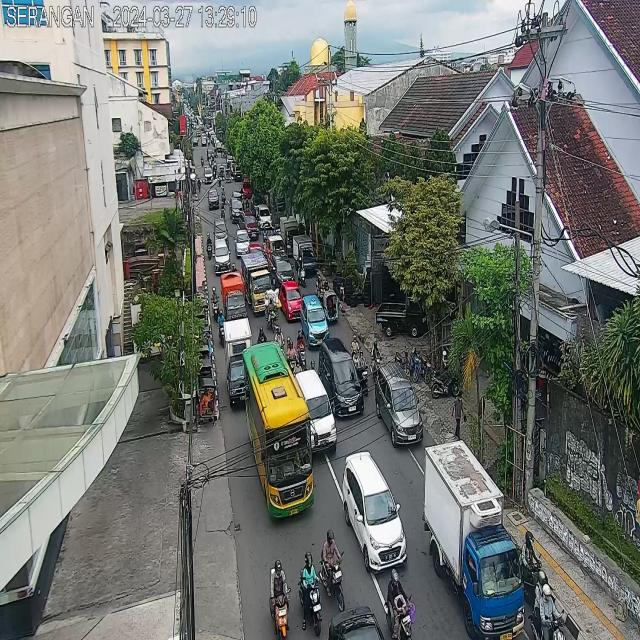bus: (243, 340, 313, 520)
car: (342, 450, 407, 572), (376, 362, 422, 446), (293, 370, 337, 455), (318, 338, 364, 415), (300, 294, 330, 348), (268, 250, 296, 290), (279, 281, 304, 321), (213, 239, 230, 274), (240, 211, 259, 241), (214, 218, 229, 248), (256, 204, 272, 229), (235, 230, 250, 256), (230, 197, 243, 224), (251, 193, 263, 214), (208, 188, 219, 210), (242, 182, 252, 199)
motorcycle: (512, 528, 548, 608), (530, 569, 566, 640), (319, 528, 347, 614), (385, 568, 415, 640), (298, 549, 322, 637), (268, 559, 290, 640), (210, 286, 238, 330), (356, 348, 368, 398), (370, 338, 382, 384), (296, 329, 308, 372), (286, 336, 297, 375), (266, 294, 277, 332), (216, 309, 226, 346), (297, 256, 307, 288), (274, 326, 286, 352), (315, 274, 324, 307), (350, 335, 361, 359), (206, 232, 213, 261), (220, 201, 226, 223), (220, 186, 227, 204), (244, 197, 250, 212)
truck: (424, 442, 525, 640), (224, 322, 252, 406), (240, 253, 272, 315), (221, 273, 248, 319), (294, 235, 316, 274), (280, 216, 300, 258), (262, 230, 286, 258)
